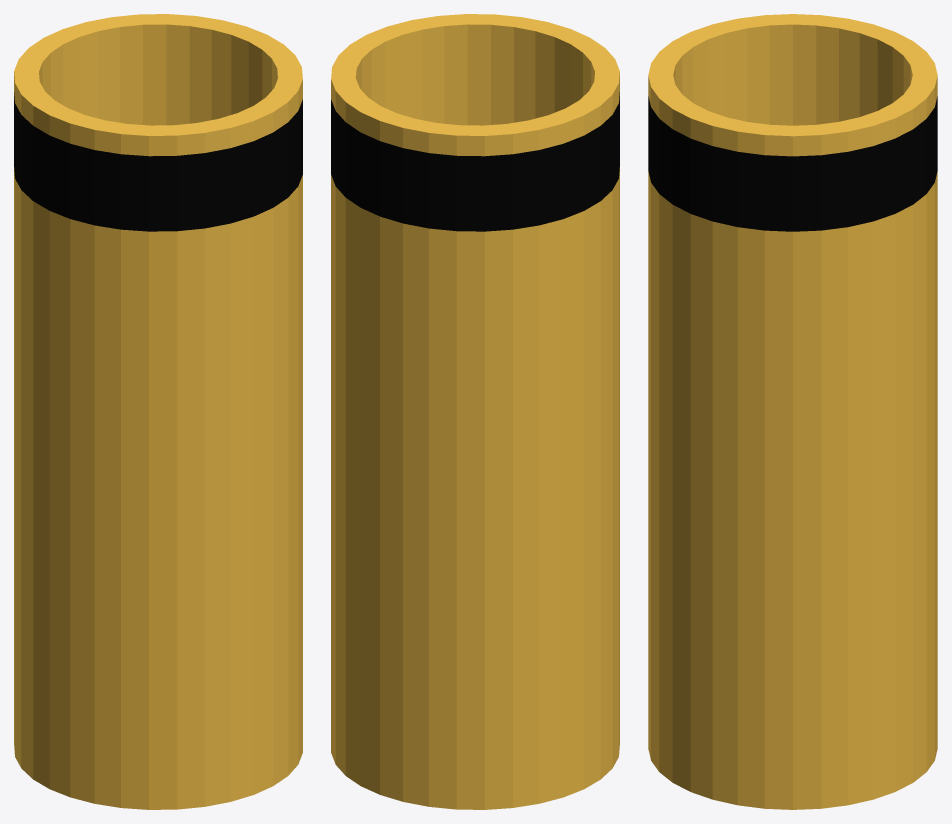
File: tubo.fbx
3 renders of one model, left to right at view 1: azimuth 30°, elevation 25°; view 2: azimuth 150°, elevation 25°; view 3: azimuth 270°, elevation 25°, orthographic.
Visible parts, largest first — view 1: Cylinder; view 2: Cylinder; view 3: Cylinder.
Part boxes in pixels (box(x1,y1,x2,y2)): Cylinder: box(14, 14, 302, 809); Cylinder: box(331, 14, 619, 809); Cylinder: box(648, 14, 937, 809).
Bounding box in the file's own units: 272 × 699 × 272.
